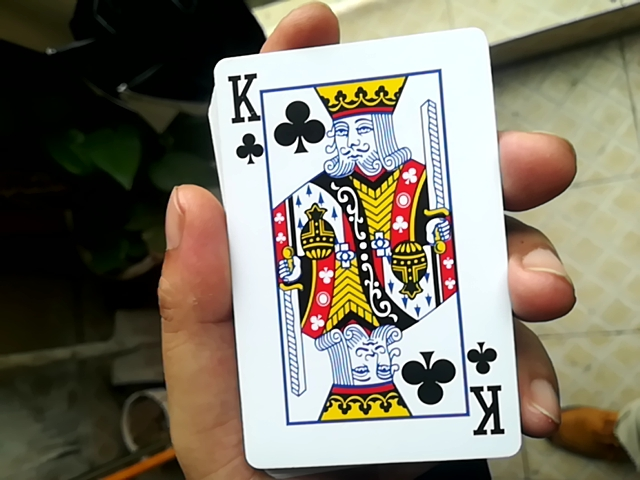mh k: (203, 23, 517, 464)
